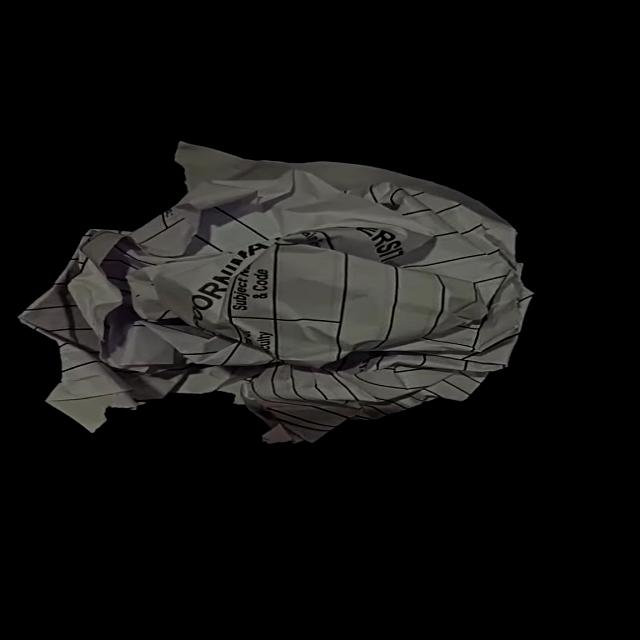PaperBall: (20, 144, 531, 442)
